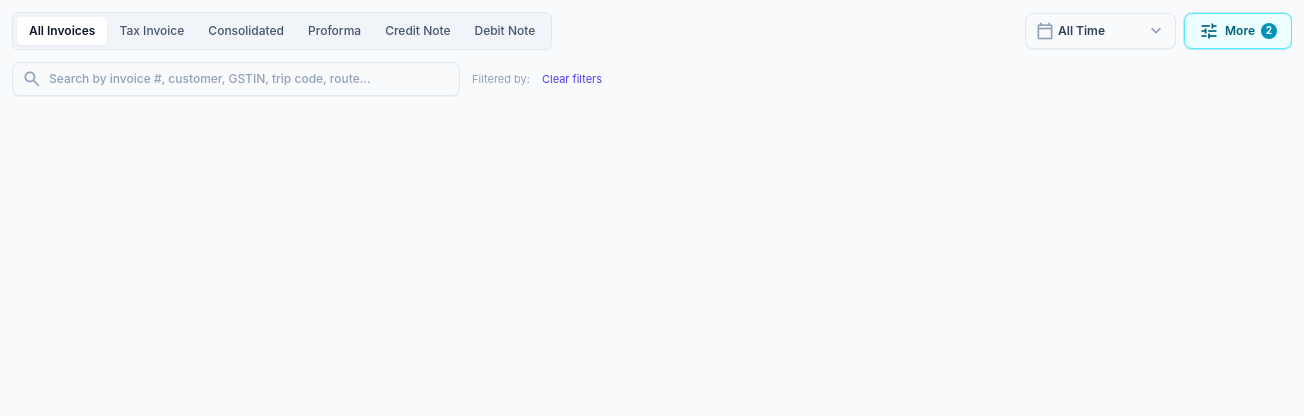
Test case: InvoiceToolbar › shows Reset all when active filters exist
The width and height of the screenshot is (1304, 416).
Click the button with aria-label "More Filters" at point(1238, 31), box [1184,13,1292,49]
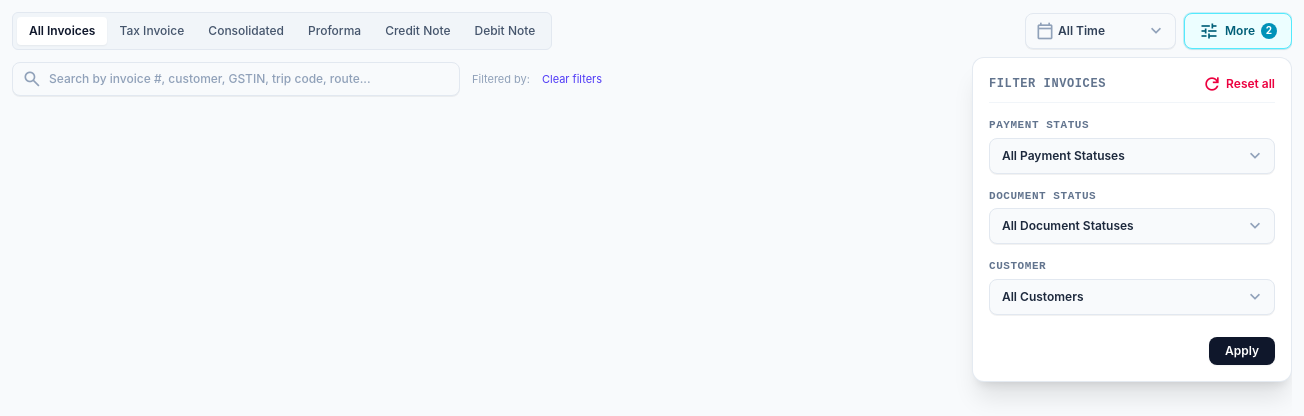
Expected: the button "Reset all" is shown, [1202,74,1275,94]
